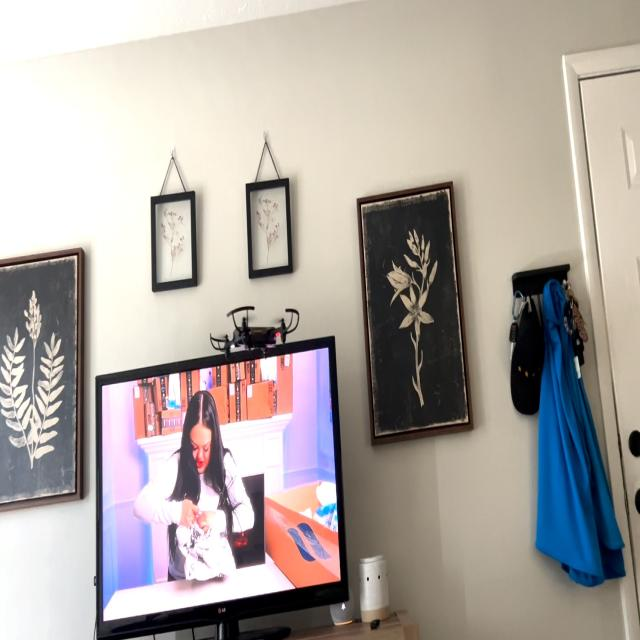drone: (202, 290, 307, 376)
